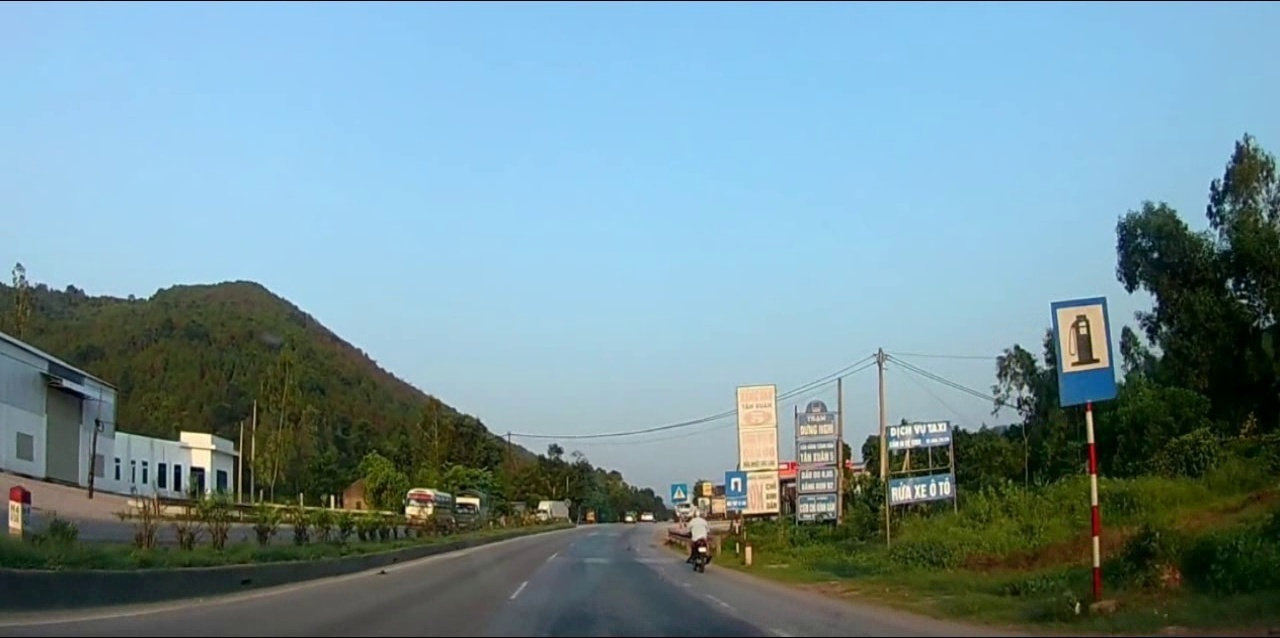Bien khac: (1048, 296, 1118, 411), (723, 468, 750, 498)
Nguoi di bo: (670, 482, 688, 503)
